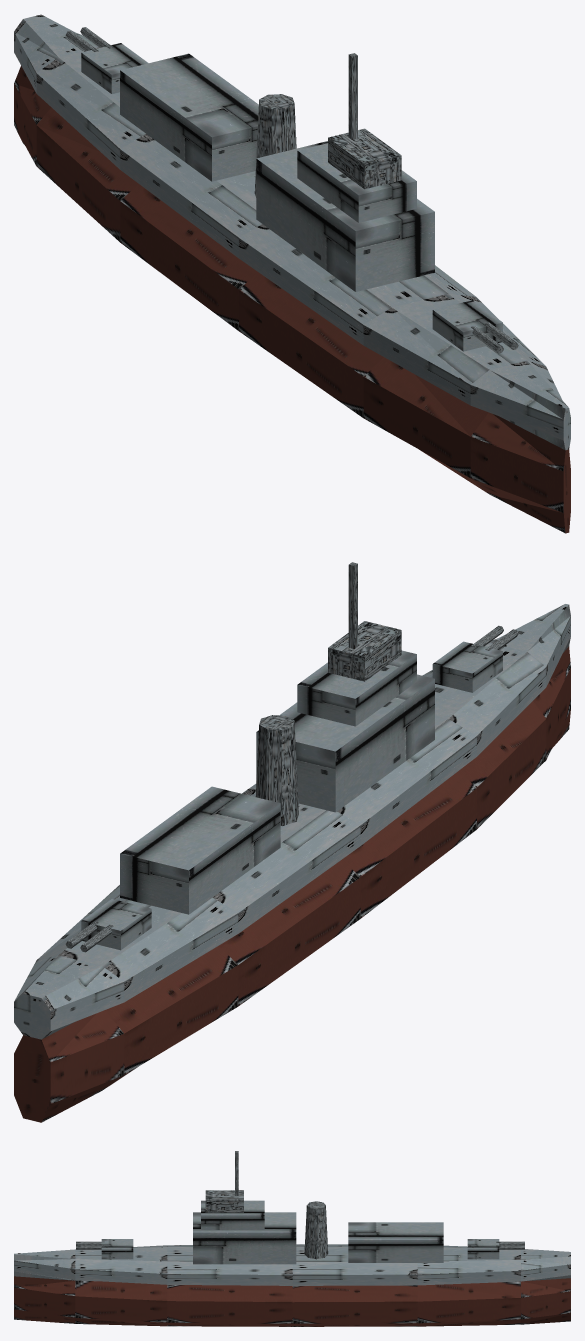
Rendered from warship_destroyer.obj.
3 renders of one model, top to bottom at view 1: azimuth 30°, elevation 25°; view 2: azimuth 150°, elevation 25°; view 3: azimuth 270°, elevation 25°, orthographic. The views are drawn at different scales.
Visible parts, largest first — view 1: warship_destroyer; view 2: warship_destroyer; view 3: warship_destroyer.
Part boxes in pixels (x1,y1,x2,y2): warship_destroyer: (14, 14, 570, 533); warship_destroyer: (14, 562, 570, 1122); warship_destroyer: (14, 1151, 570, 1326).
Size of the model in its own units: 9.2 by 23.2 by 70.
